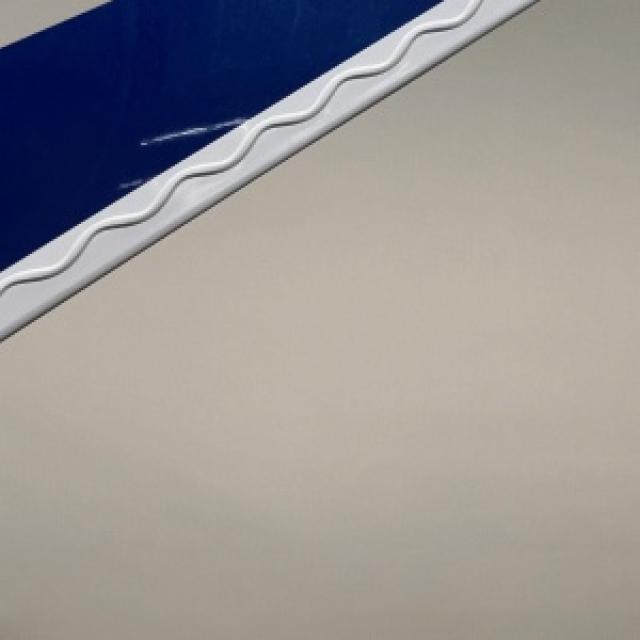healthy: (0, 0, 529, 337)
